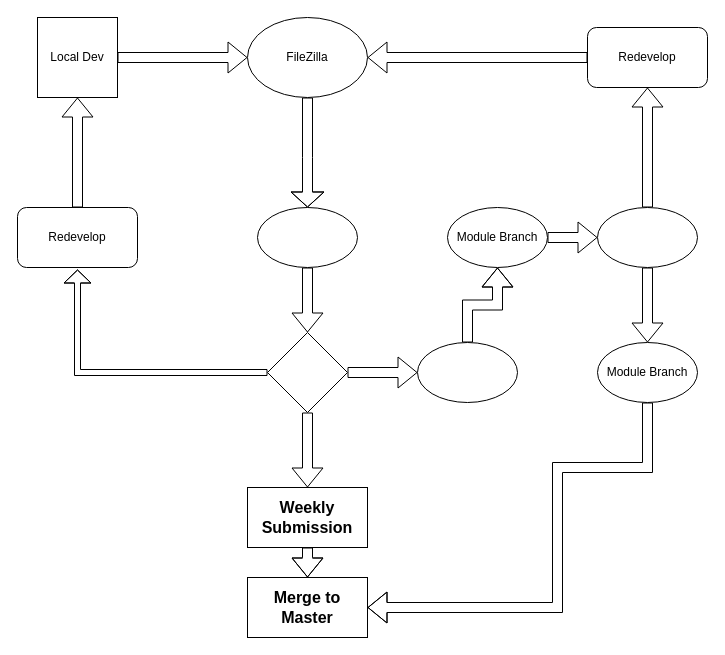
The diagram is 725 pixels wide and 655 high, and some of its shapes have lost their labels. Each missing label, with the box of its shape:
Classmate Review: (596, 206, 698, 268)
PPU Jail: (256, 206, 358, 268)
Push Git: (416, 342, 518, 402)
Review Changes: (266, 332, 348, 412)
